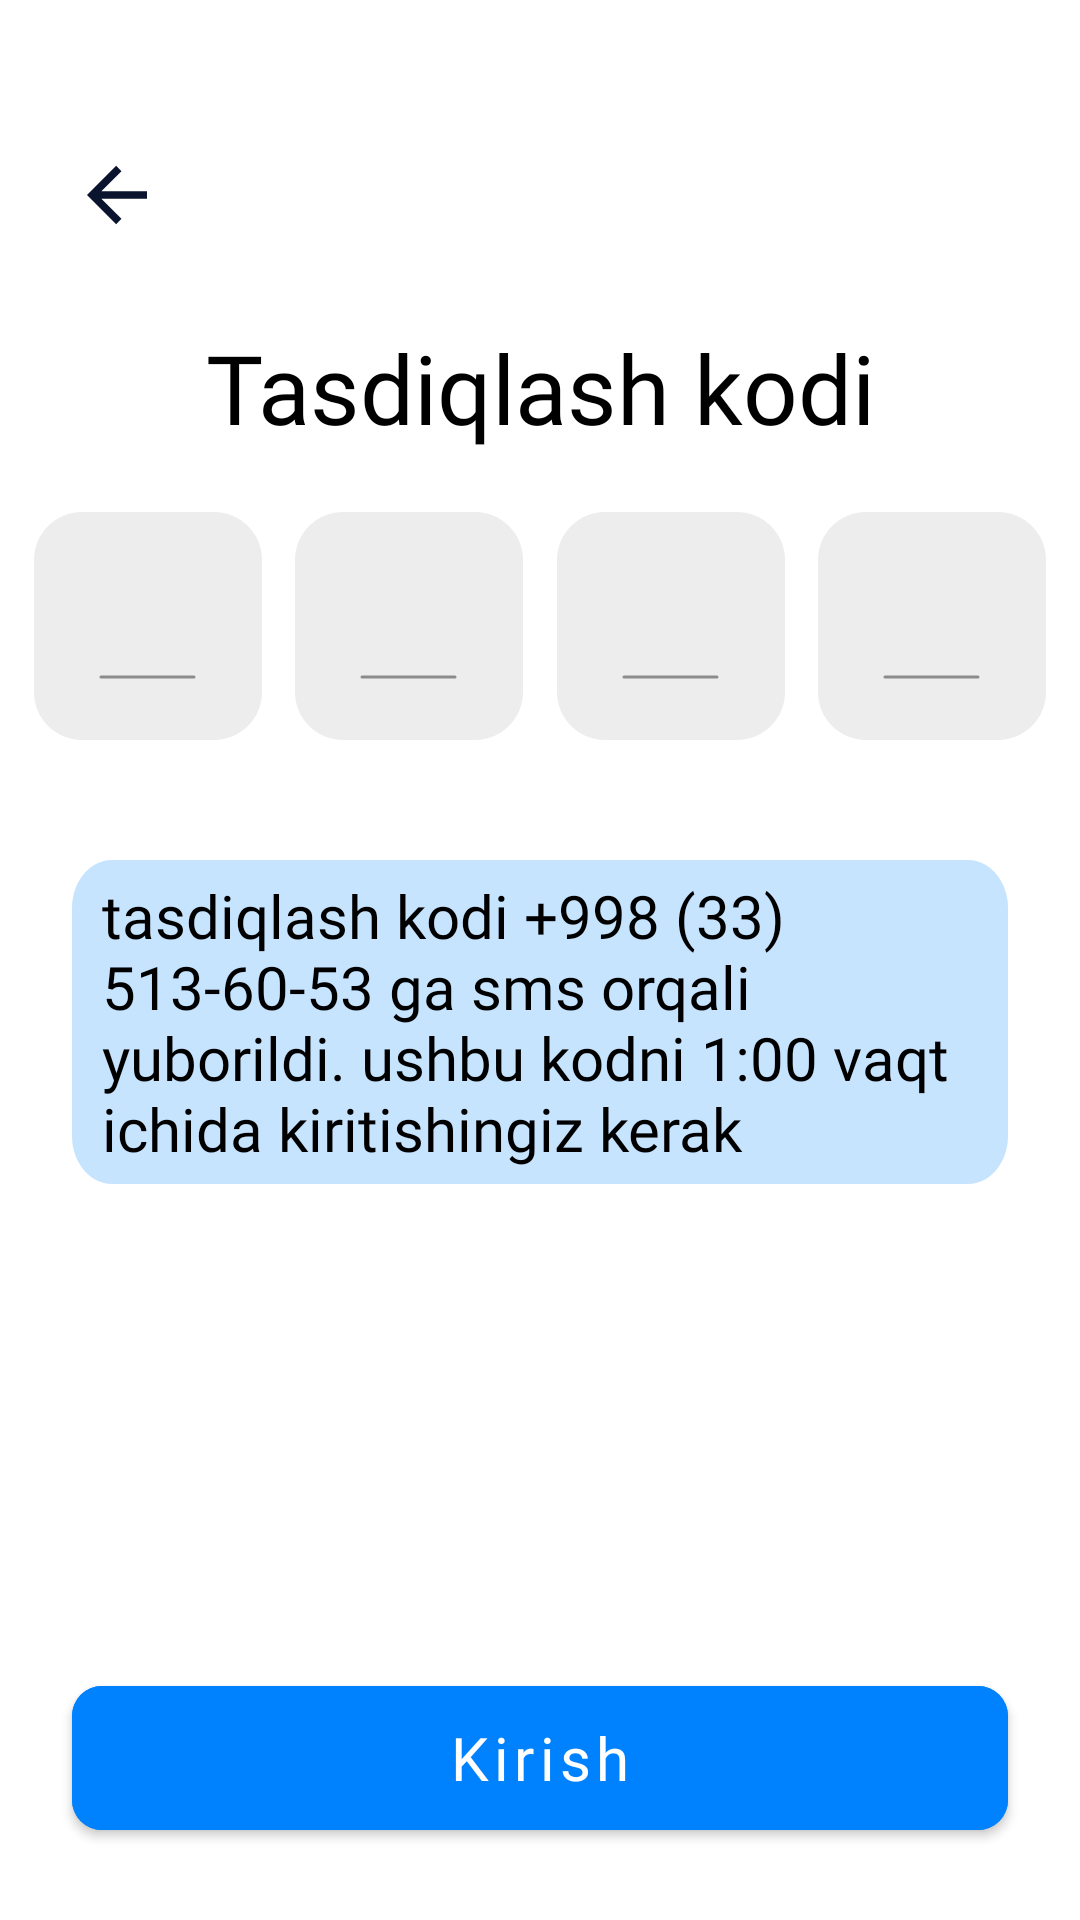

Named icons in this screenshot (1080x1920) and their centers, [x,y]:
arrow back: [117,195]
